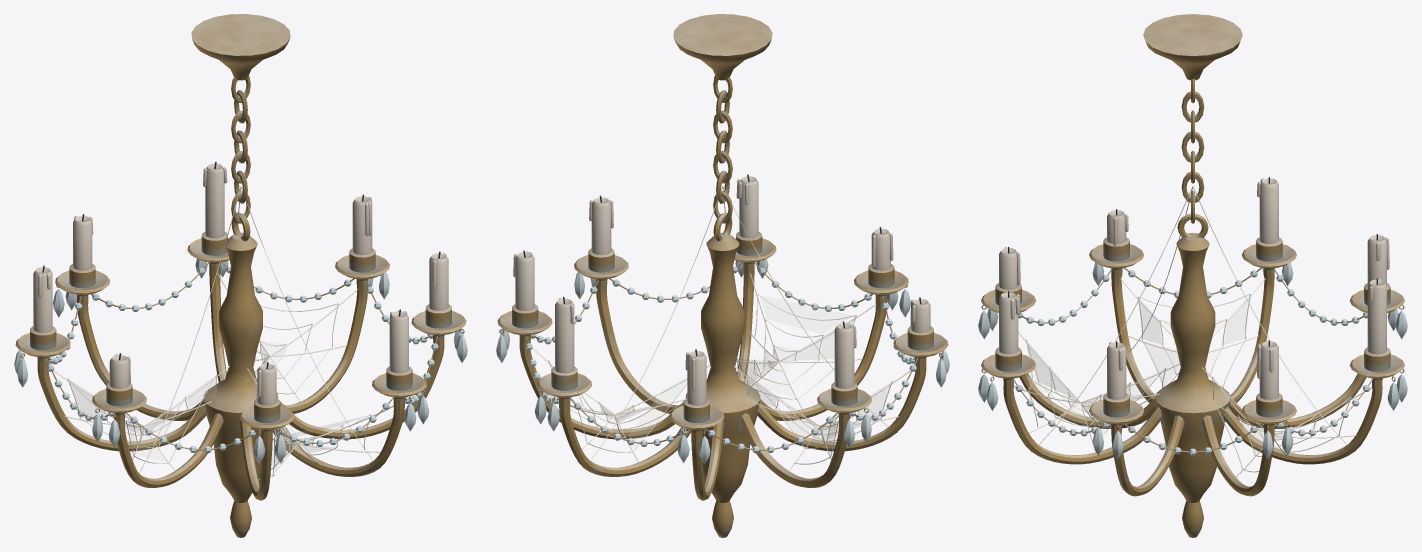
The model's file is dusty-chandelier.glb.
The picture shows the model from 3 angles, left to right: view 1: azimuth 30°, elevation 25°; view 2: azimuth 150°, elevation 25°; view 3: azimuth 270°, elevation 25°; orthographic projection.
Visible parts, largest first — view 1: dusty-chandelier_body, dusty-chandelier_web; view 2: dusty-chandelier_body, dusty-chandelier_web; view 3: dusty-chandelier_body, dusty-chandelier_web.
Part boxes in pixels (x1,y1,x2,y2): dusty-chandelier_body: (14,14,467,537); dusty-chandelier_web: (53,186,393,480); dusty-chandelier_body: (496,14,949,537); dusty-chandelier_web: (532,186,910,470); dusty-chandelier_body: (978,14,1407,537); dusty-chandelier_web: (1014,186,1371,477).
Size of the model in its own units: 0.775 by 1 by 0.775.
Materials: 3 (1 with a texture image).
